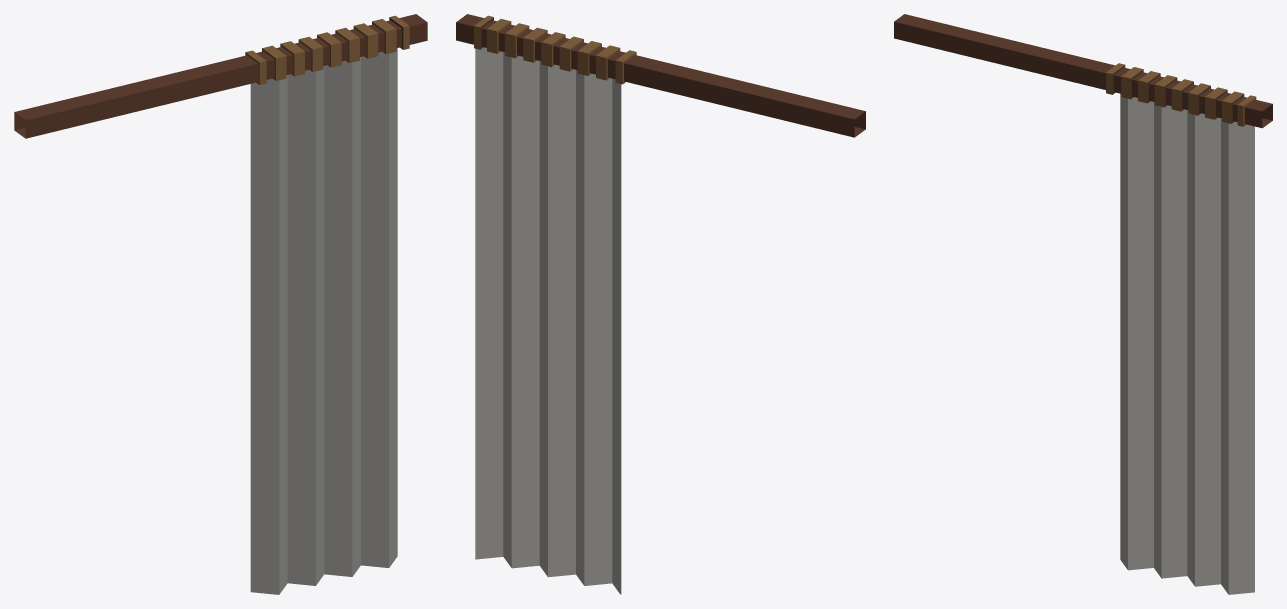
File: Curtain_4B.fbx
3 renders of one model, left to right at view 1: azimuth 30°, elevation 25°; view 2: azimuth 150°, elevation 25°; view 3: azimuth 330°, elevation 25°, orthographic. The views are drawn at different scales.
Visible parts, largest first — view 1: polySurface812; view 2: polySurface812; view 3: polySurface812.
Boxes of the visible parts, x1,y1,x2,y2 form: polySurface812: (14, 14, 427, 594); polySurface812: (456, 14, 865, 594); polySurface812: (894, 14, 1272, 594).
Bounding box in the file's own units: 2.4 × 3.08 × 0.1452.
1 material, 1 textured.
